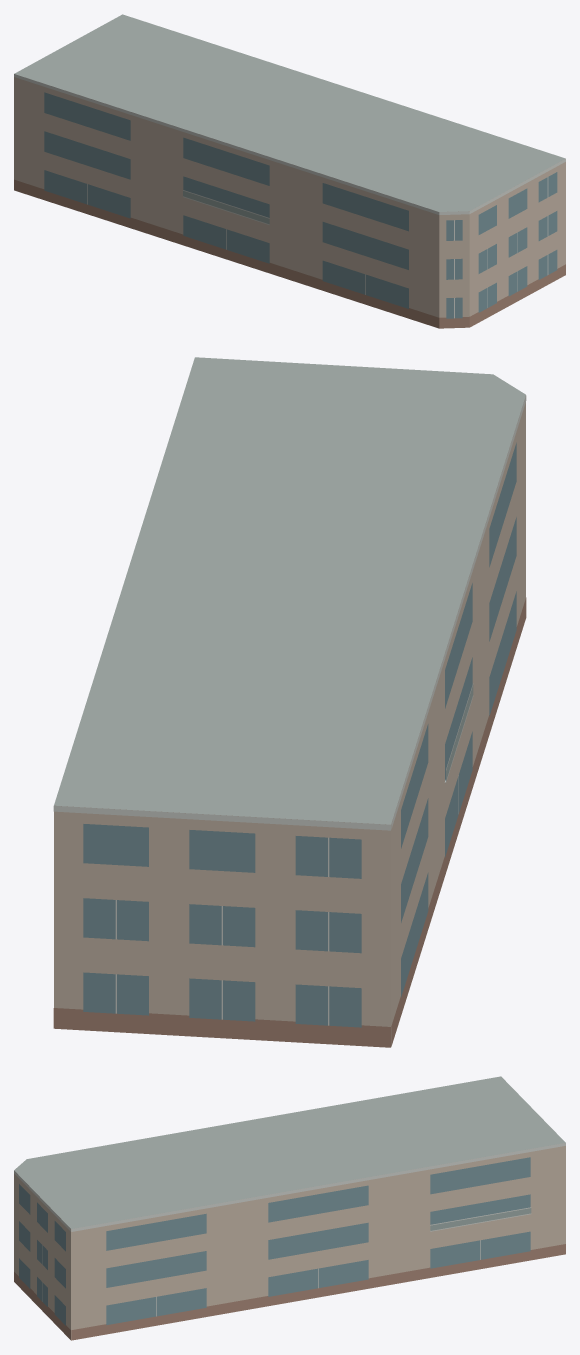
Rendered from survey-upis-32899966.glb.
3 renders of one model, top to bottom at view 1: azimuth 30°, elevation 25°; view 2: azimuth 150°, elevation 25°; view 3: azimuth 270°, elevation 25°, orthographic. The views are drawn at different scales.
Parts seen in each view (by area): view 1: survey-upis-32899966.tmp; view 2: survey-upis-32899966.tmp; view 3: survey-upis-32899966.tmp.
Part boxes in pixels (x1,y1,x2,y2): survey-upis-32899966.tmp: (14, 14, 565, 328); survey-upis-32899966.tmp: (53, 357, 526, 1047); survey-upis-32899966.tmp: (14, 1076, 565, 1340).
Size of the model in its own units: 26.9 by 9.15 by 41.06.
